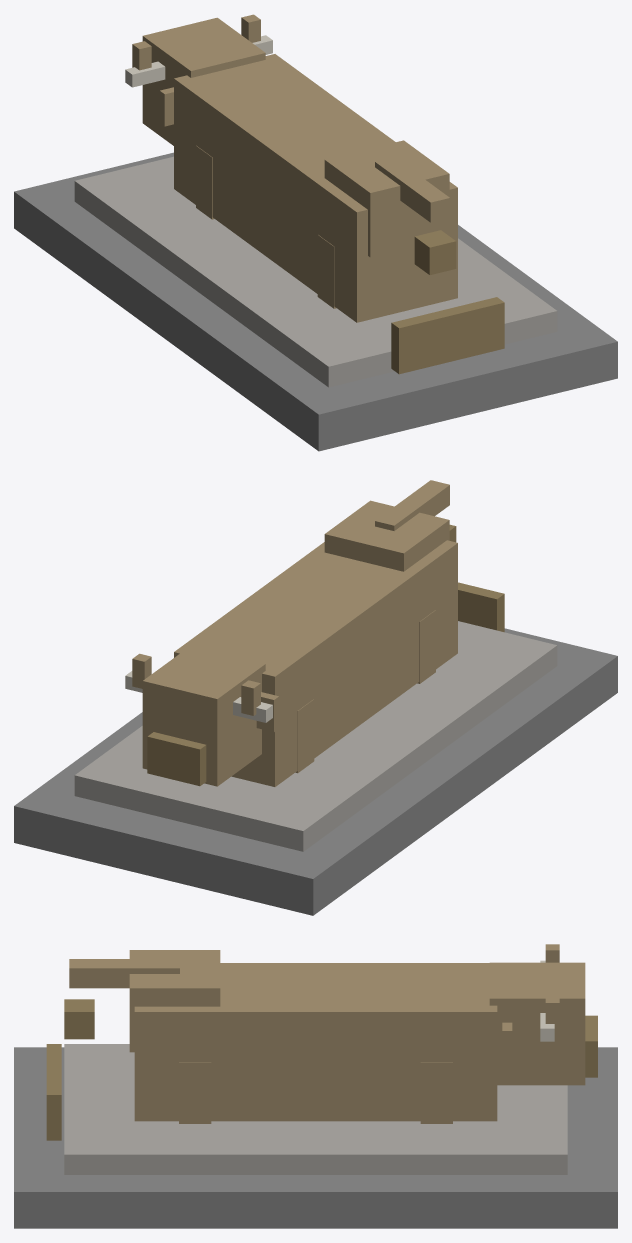
File: bull.glb
The picture shows the model from 3 angles, top to bottom: view 1: azimuth 30°, elevation 25°; view 2: azimuth 150°, elevation 25°; view 3: azimuth 270°, elevation 25°; orthographic projection.
Visible parts, largest first — view 1: Mesh; view 2: Mesh; view 3: Mesh.
Boxes of the visible parts, x1,y1,x2,y2 form: Mesh: [14, 14, 617, 451]; Mesh: [14, 480, 617, 915]; Mesh: [14, 944, 617, 1228].
Size of the model in its own units: 3.4 by 2.11 by 6.
